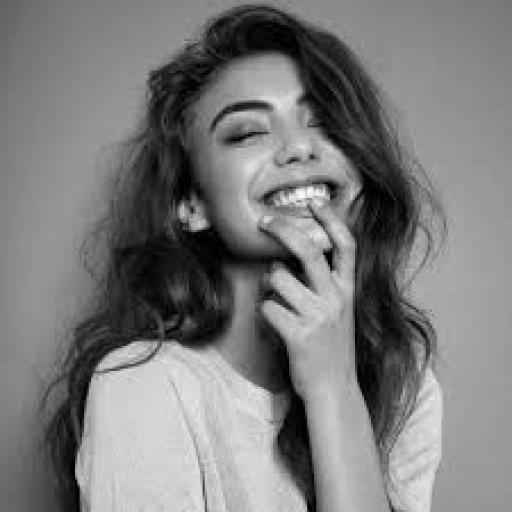laughing: (36, 0, 462, 510)
